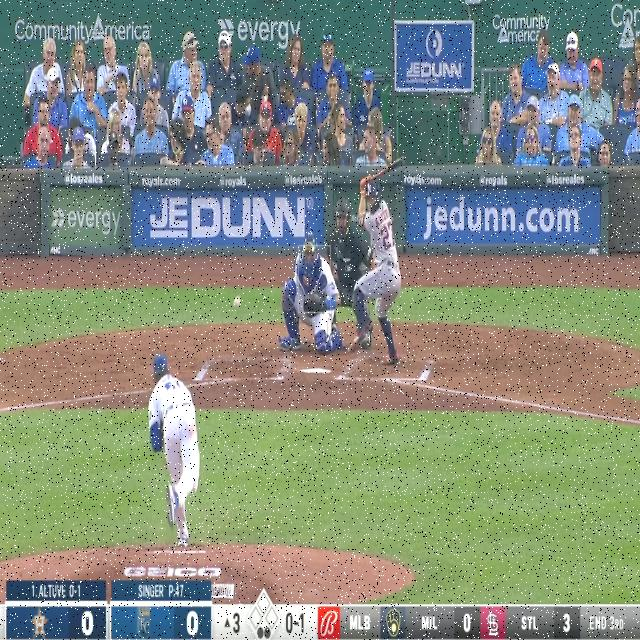baseball: (233, 294, 241, 308)
